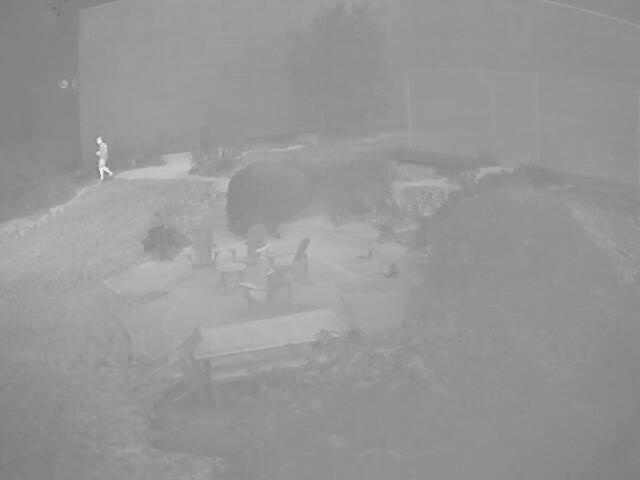person: (95, 135, 114, 181)
